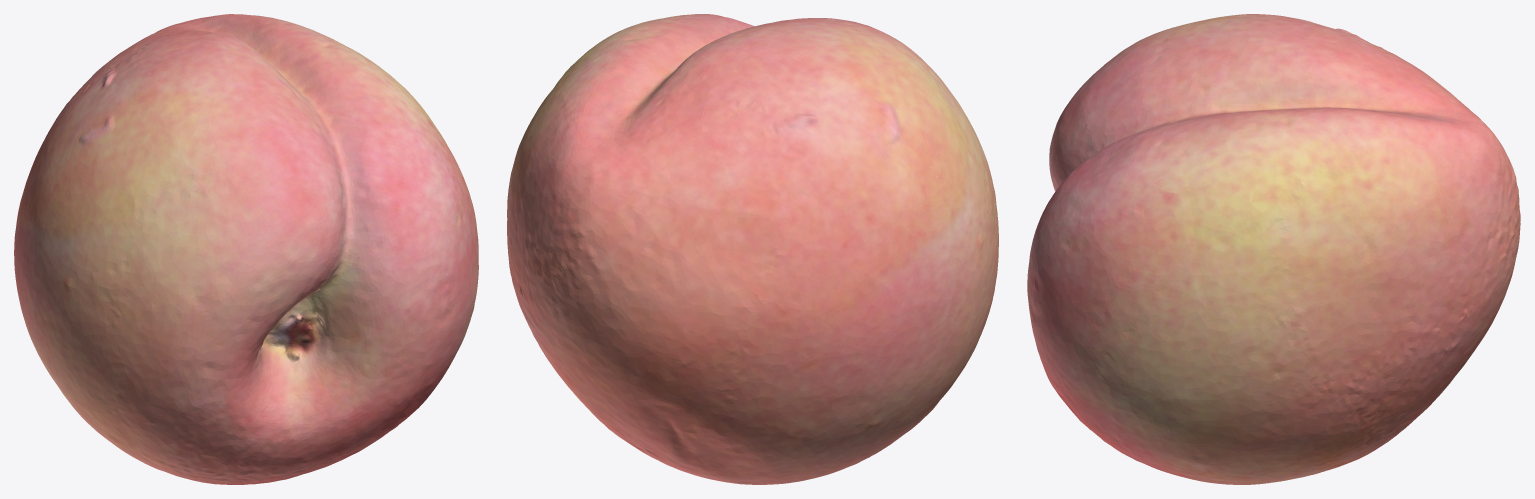
Rendered from peach2.obj.
The picture shows the model from 3 angles, left to right: view 1: azimuth 30°, elevation 25°; view 2: azimuth 150°, elevation 25°; view 3: azimuth 270°, elevation 25°; orthographic projection. The views are drawn at different scales.
Parts seen in each view (by area): view 1: peach2; view 2: peach2; view 3: peach2.
Part boxes in pixels (<box>): peach2: <box>14,14,478,484</box>; peach2: <box>507,14,998,484</box>; peach2: <box>1027,14,1520,484</box>.
Size of the model in its own units: 0.0766 by 0.0754 by 0.0799.
